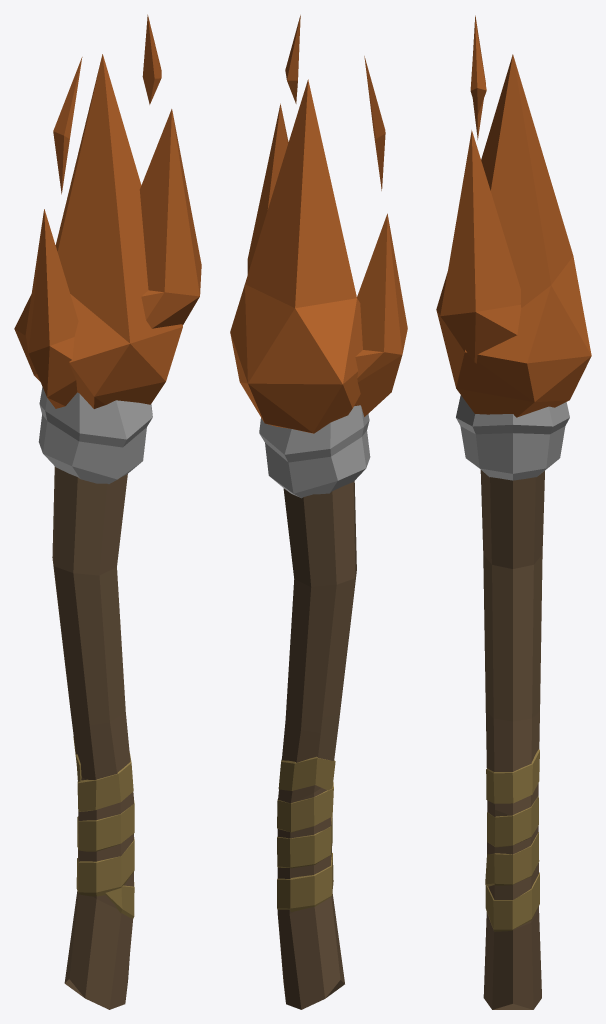
Rendered from woodentorch_fire.glb.
3 renders of one model, left to right at view 1: azimuth 30°, elevation 25°; view 2: azimuth 150°, elevation 25°; view 3: azimuth 270°, elevation 25°, orthographic. The views are drawn at different scales.
Parts seen in each view (by area): view 1: WoodenTorch_Fire; view 2: WoodenTorch_Fire; view 3: WoodenTorch_Fire.
Part boxes in pixels (x1=…): WoodenTorch_Fire: x1=14, y1=14, x2=201, y2=1009; WoodenTorch_Fire: x1=230, y1=15, x2=407, y2=1009; WoodenTorch_Fire: x1=436, y1=15, x2=591, y2=1009.
Bounding box in the file's own units: 0.6209 × 3.55 × 0.501.
